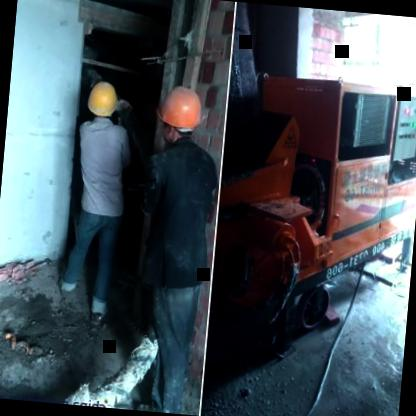helmet: (154, 82, 203, 149), (84, 78, 122, 124)
